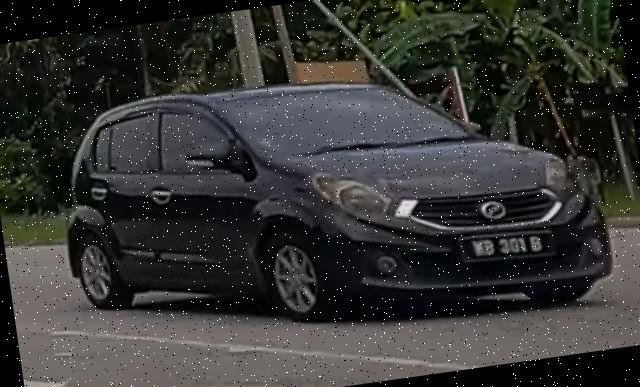License_Plate: (457, 223, 557, 269)
car: (47, 34, 618, 371)
